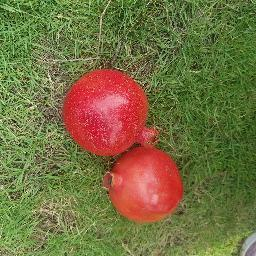Good_pomegranate: (64, 68, 150, 152), (105, 147, 185, 223)
